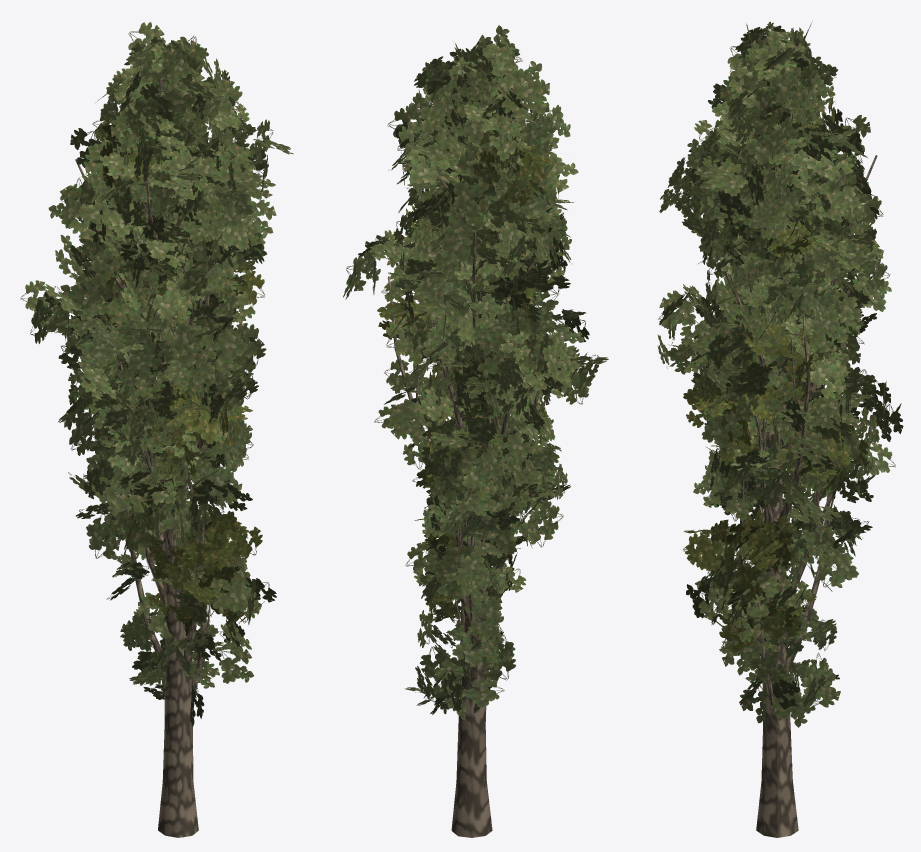
The model's file is b04_poplar.glb.
The picture shows the model from 3 angles, left to right: view 1: azimuth 30°, elevation 25°; view 2: azimuth 150°, elevation 25°; view 3: azimuth 270°, elevation 25°; orthographic projection.
Parts seen in each view (by area): view 1: b04_poplar; view 2: b04_poplar; view 3: b04_poplar.
Boxes of the visible parts, x1,y1,x2,y2 form: b04_poplar: [20, 22, 293, 837]; b04_poplar: [343, 25, 608, 837]; b04_poplar: [657, 21, 903, 837].
Size of the model in its own units: 1 by 3.28 by 0.9615.
2 materials, 2 textured.
